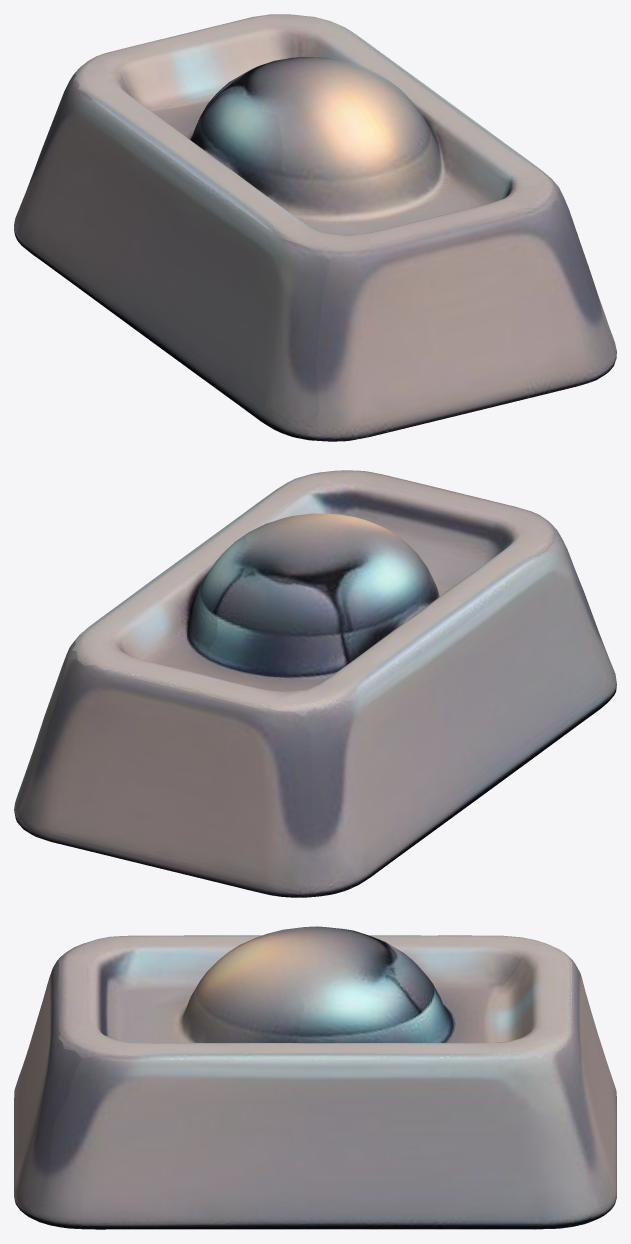
The model's file is alloy.glb.
3 views of the same model, one above another, from view 1: azimuth 30°, elevation 25°; view 2: azimuth 150°, elevation 25°; view 3: azimuth 270°, elevation 25° (orthographic). The views are drawn at different scales.
Parts seen in each view (by area): view 1: item_alloy; view 2: item_alloy; view 3: item_alloy.
Part boxes in pixels (x1,y1,x2,y2): item_alloy: [14, 14, 616, 441]; item_alloy: [14, 470, 616, 897]; item_alloy: [14, 926, 616, 1229].
Size of the model in its own units: 0.6209 by 0.3884 by 1.
1 material, 1 textured.
